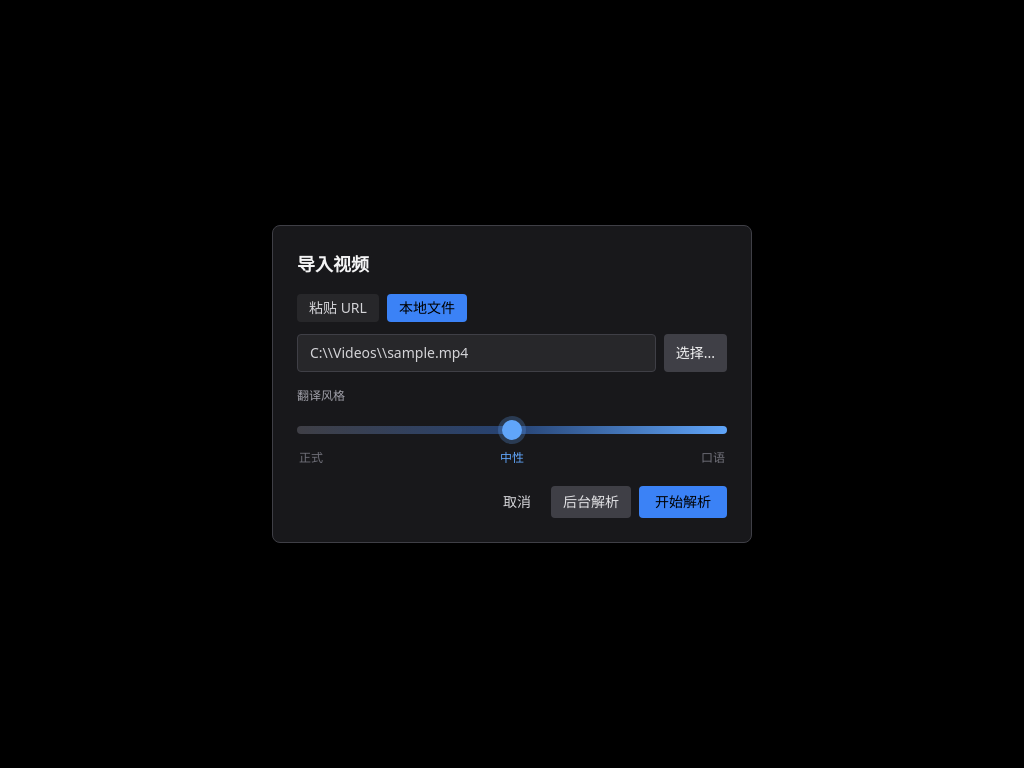
Scenario: ImportModal — diagnosed local failures › keeps the generic local checklist for an unclassified failure
The width and height of the screenshot is (1024, 768).
Click the button "开始解析".
click(683, 502)  # box 639,486 -> 727,518
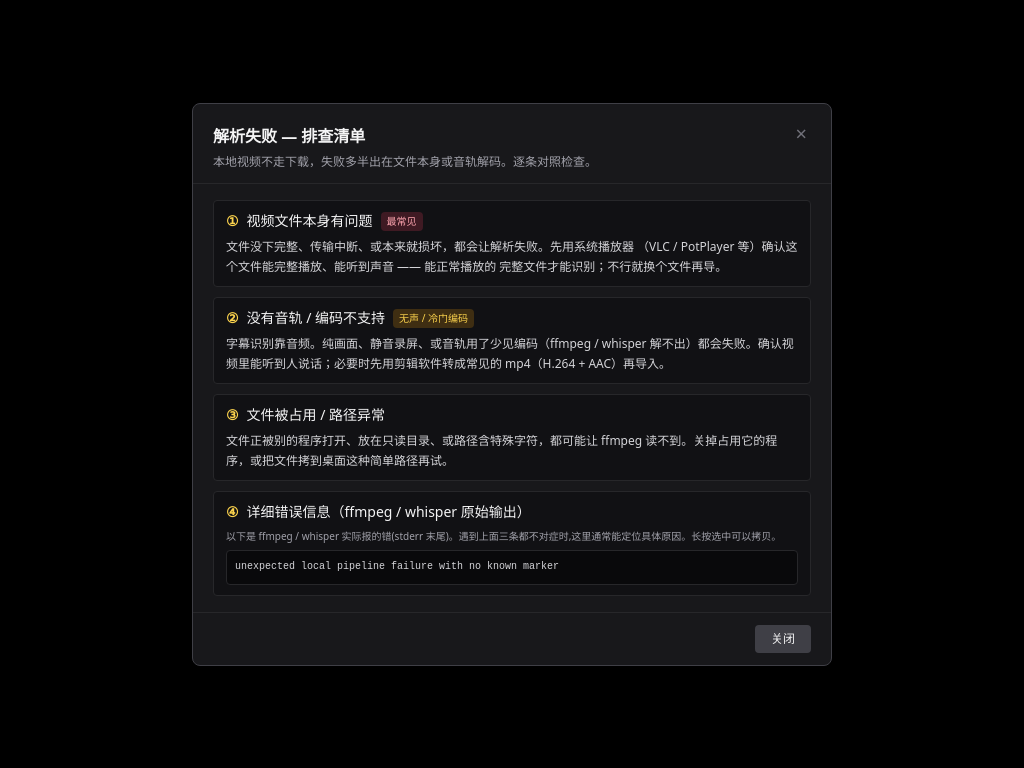
Expected: the text "解析失败 — 排查清单" is shown, 213,124 -> 365,146
Expected: the text "视频文件本身有问题" is shown, 247,211 -> 373,231
